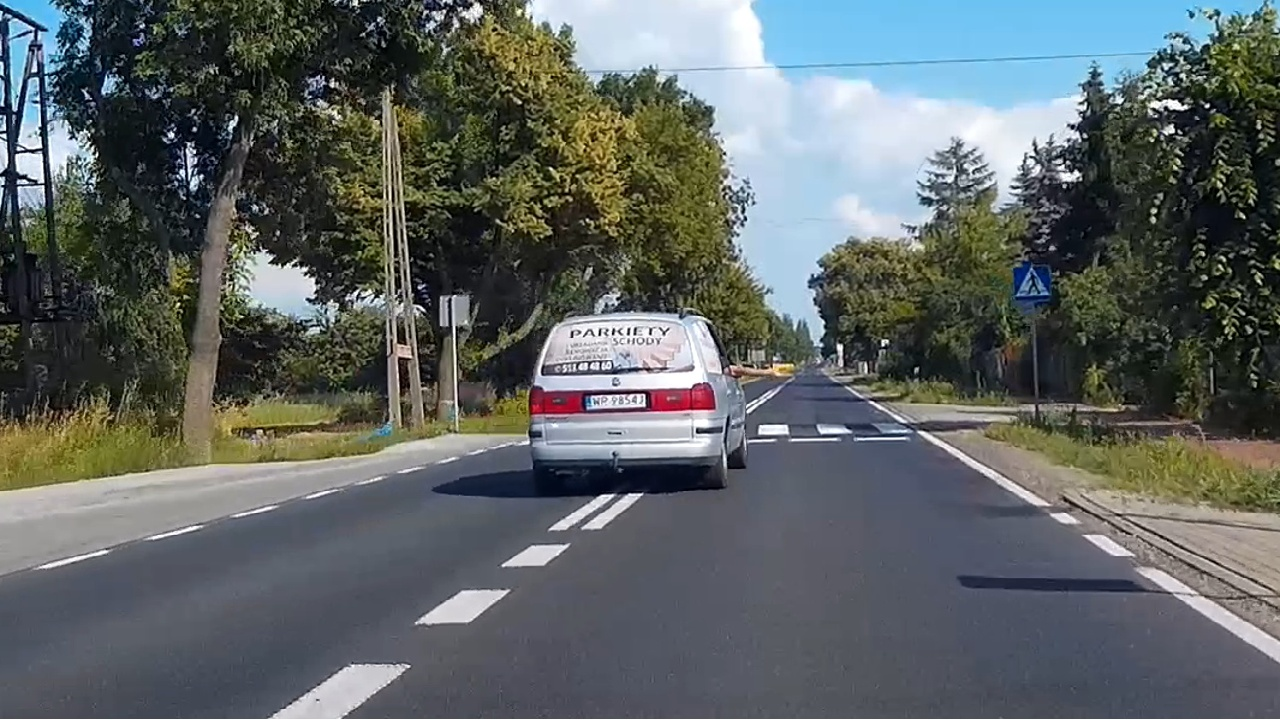D6: (1005, 263, 1065, 300)
